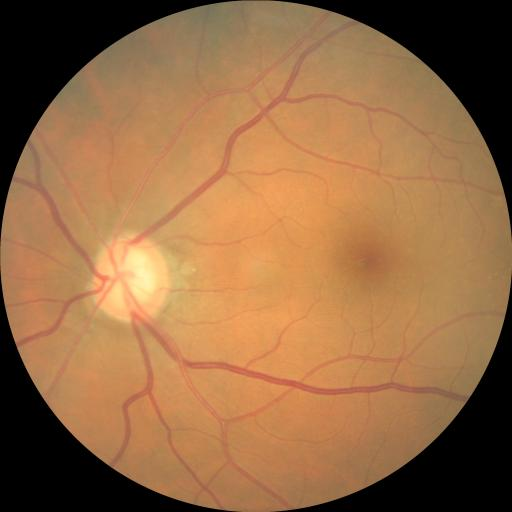Optic Cup: (110, 248, 155, 308)
Optic Disc: (92, 236, 168, 322)
